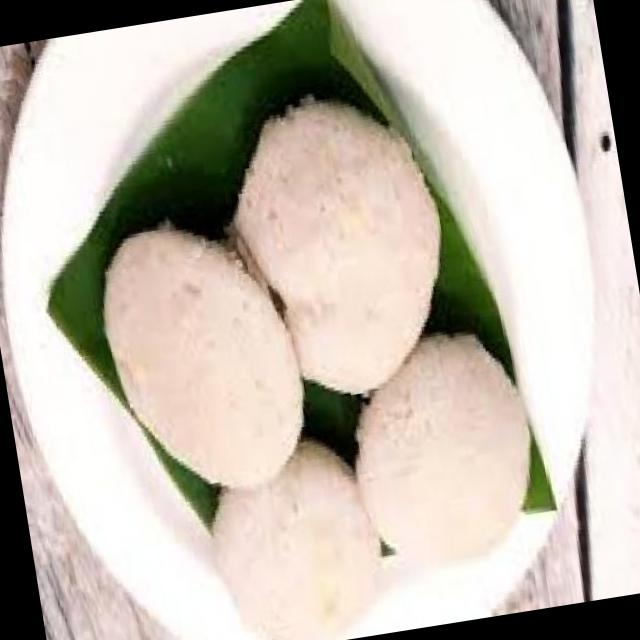idli: (210, 84, 465, 412), (92, 210, 316, 505), (338, 324, 548, 576), (199, 433, 394, 640)
